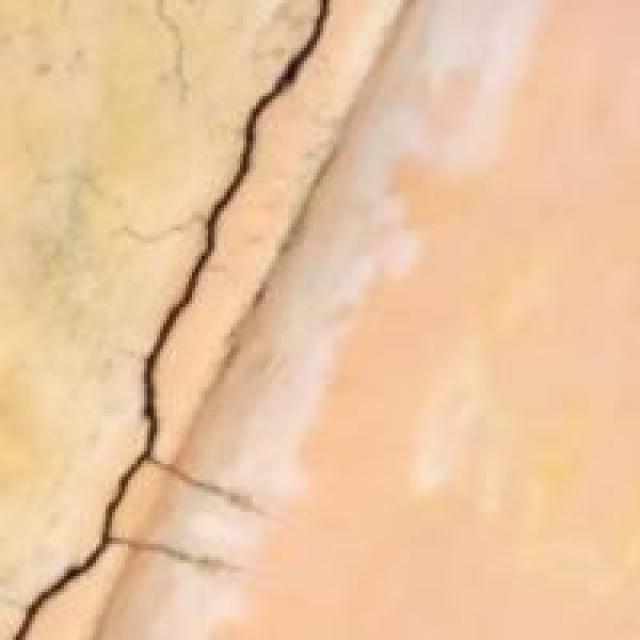crack: (3, 3, 339, 634)
